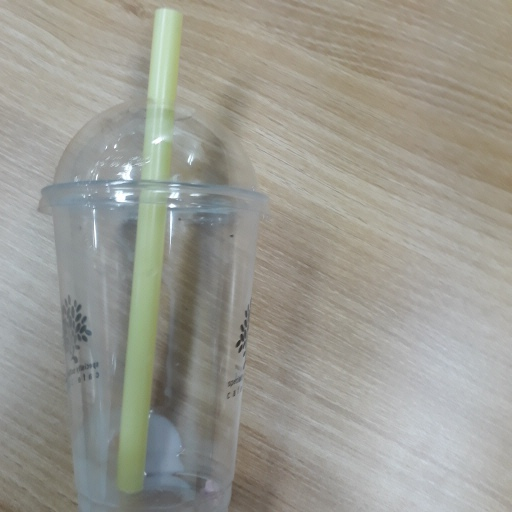Plastic_2: (31, 4, 268, 512)
